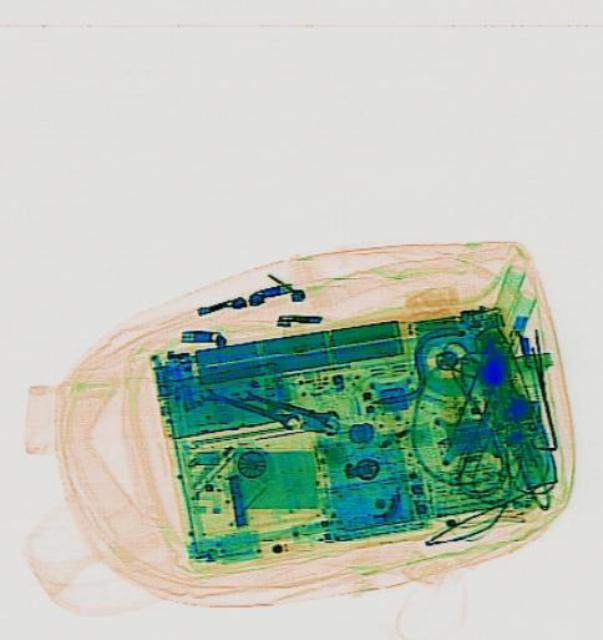Wrench: (195, 382, 300, 430), (233, 383, 338, 429)
